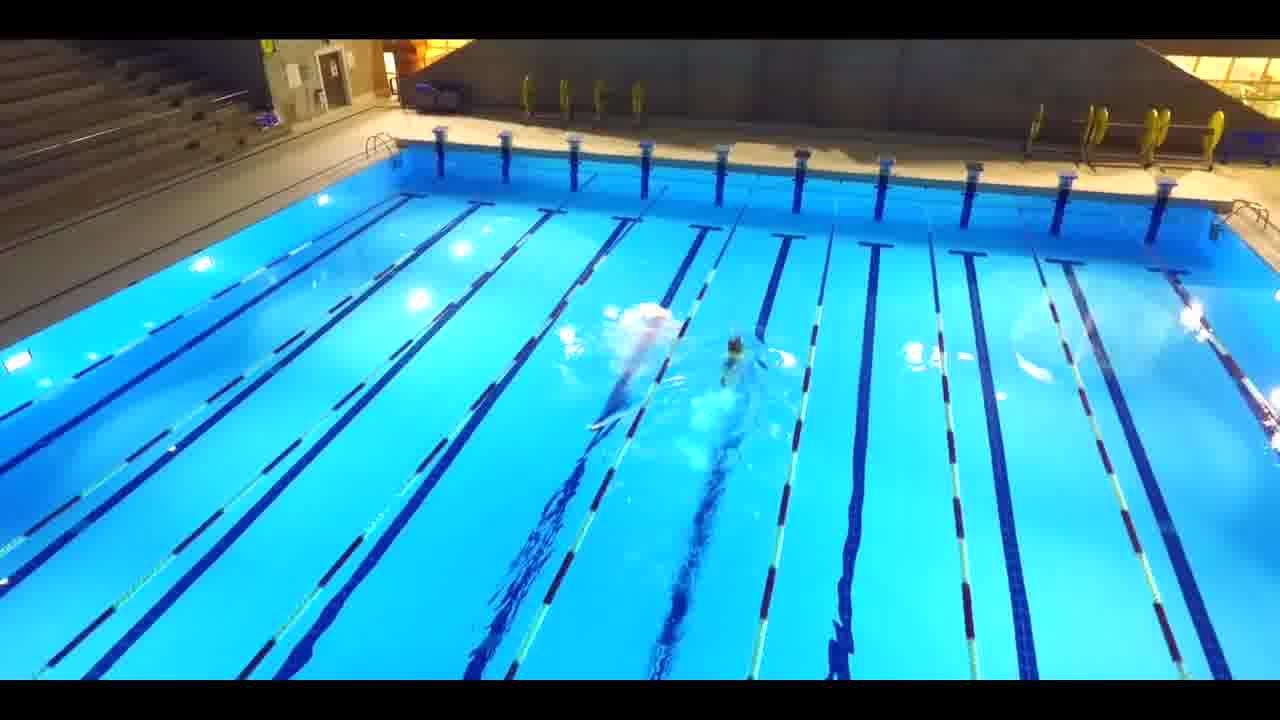human: (715, 320, 753, 375)
